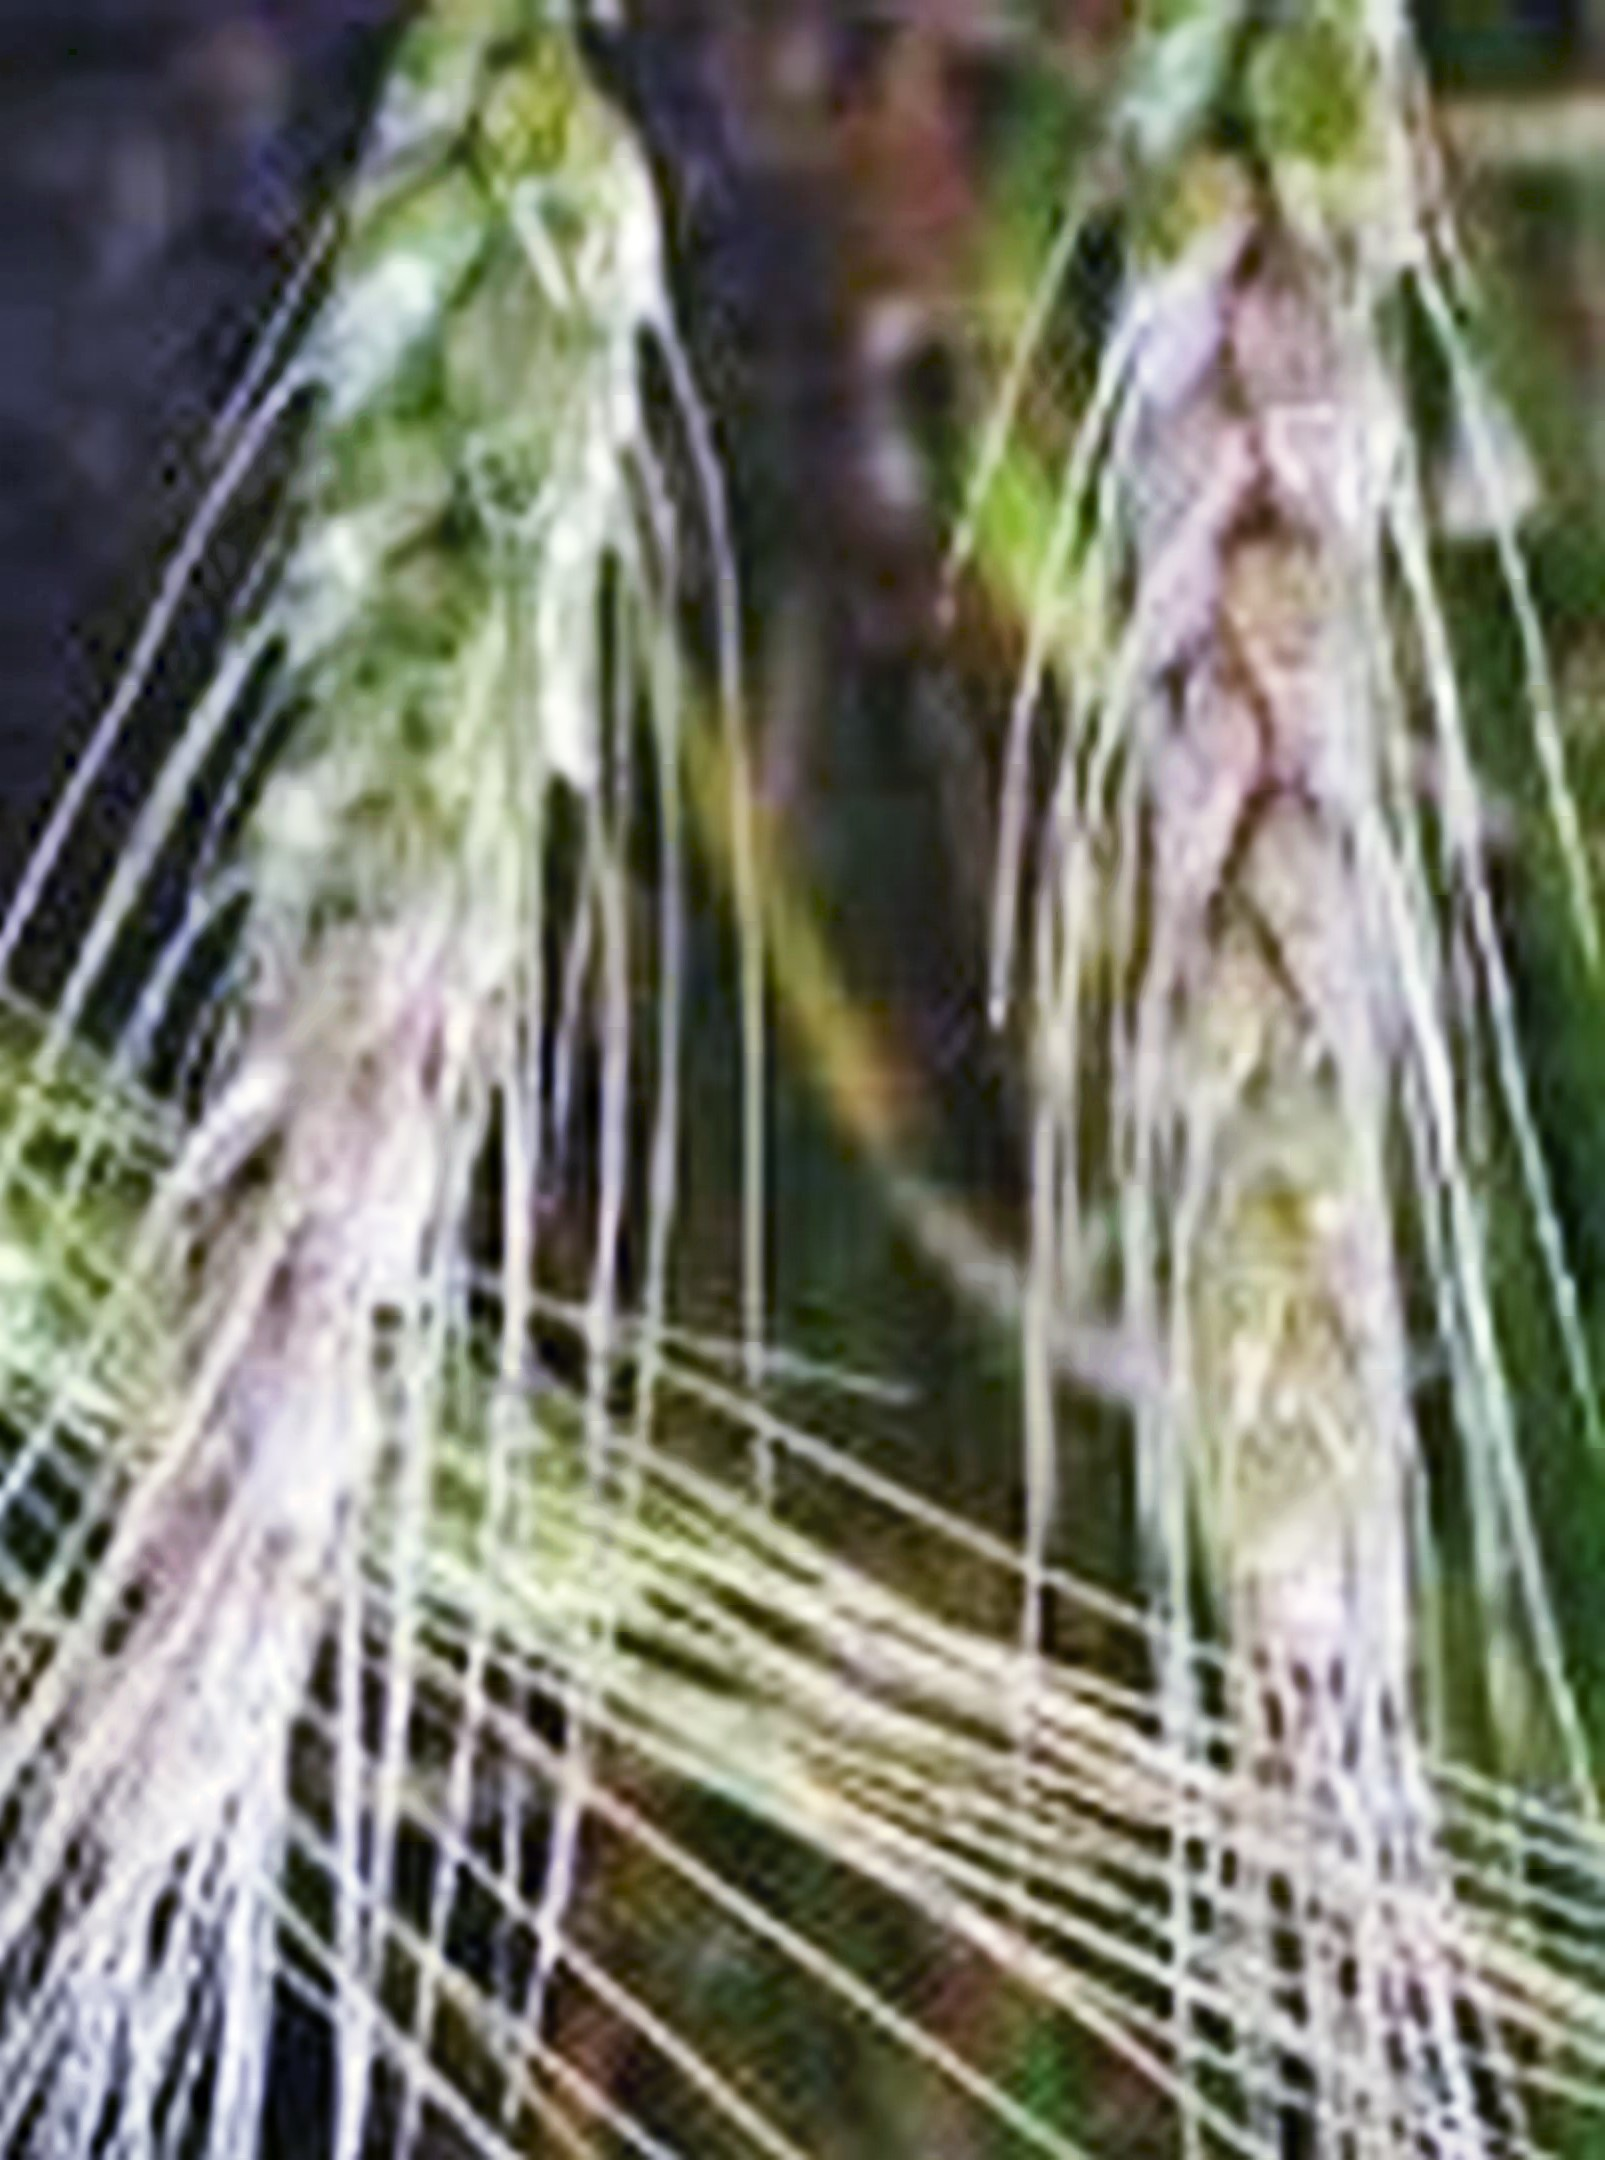Wheat scab: (137, 8, 674, 1801), (1023, 40, 1524, 1759)
